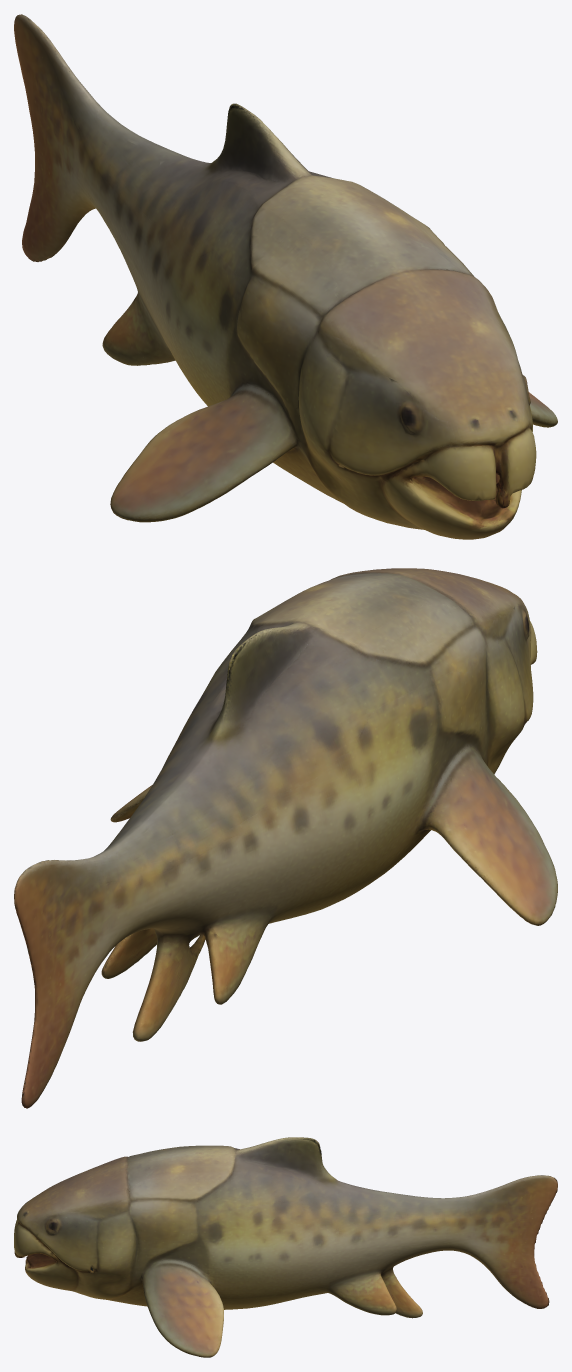
The picture shows the model from 3 angles, top to bottom: view 1: azimuth 30°, elevation 25°; view 2: azimuth 150°, elevation 25°; view 3: azimuth 270°, elevation 25°; orthographic projection. The views are drawn at different scales.
Visible parts, largest first — view 1: world; view 2: world; view 3: world.
Part boxes in pixels (bbox=[...]): world: bbox=[14, 14, 557, 539]; world: bbox=[14, 568, 557, 1108]; world: bbox=[14, 1137, 557, 1357].
Size of the model in its own units: 0.1423 by 0.1022 by 0.28.
Materials: 1 (1 with a texture image).
